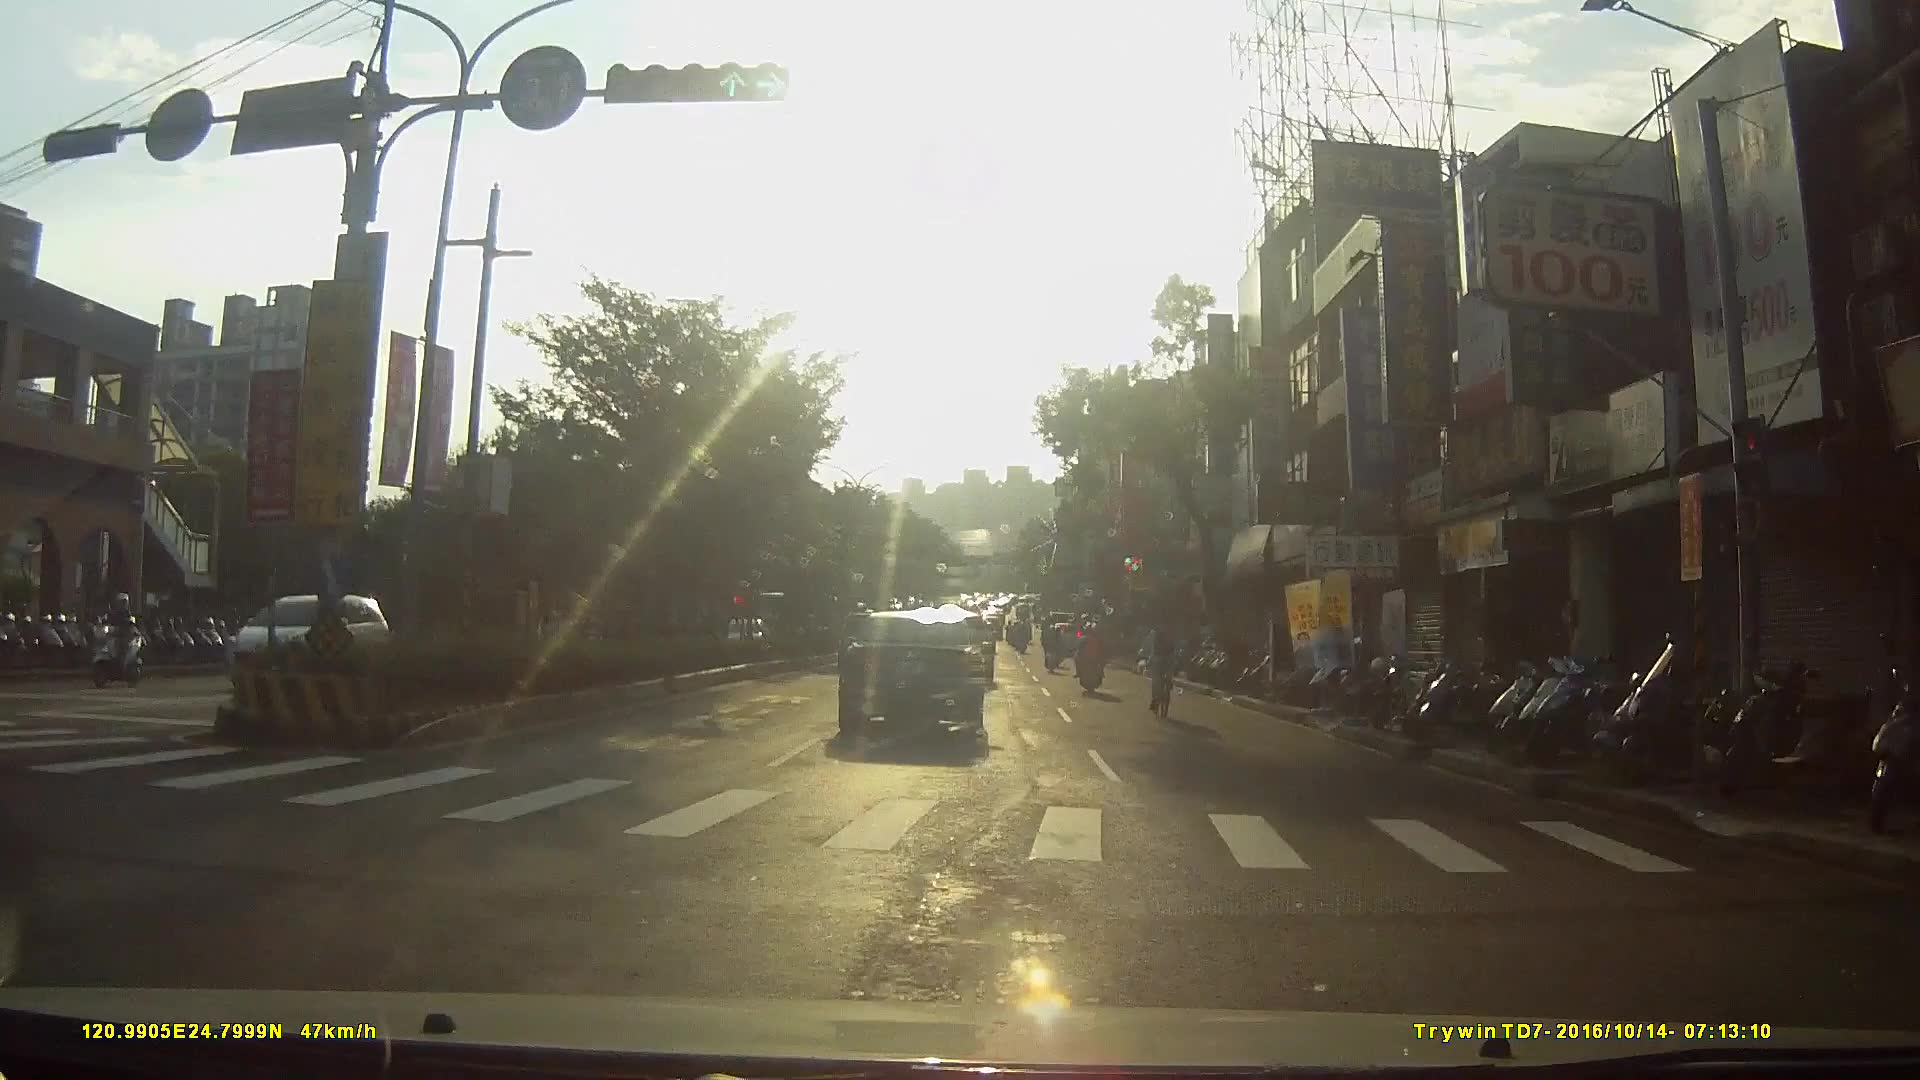rider: (1139, 610, 1187, 719), (92, 593, 146, 689), (1076, 624, 1107, 696), (1040, 623, 1065, 674)
vehicle: (839, 608, 988, 738), (219, 591, 399, 693)
